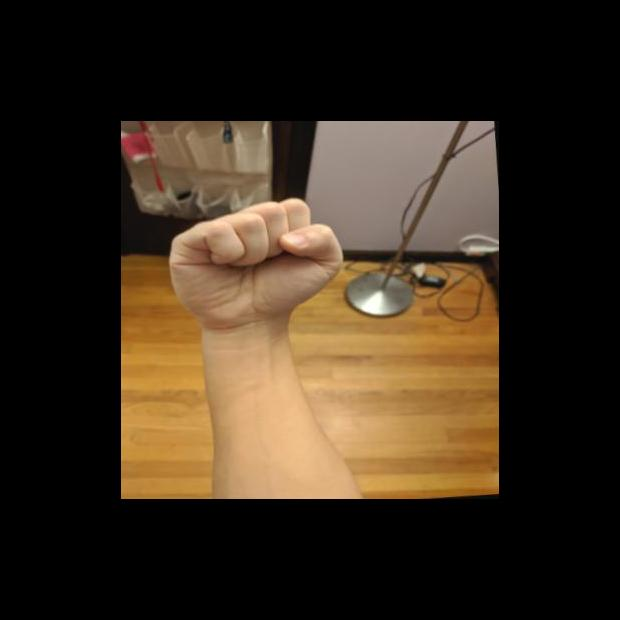R: (157, 186, 355, 337)
